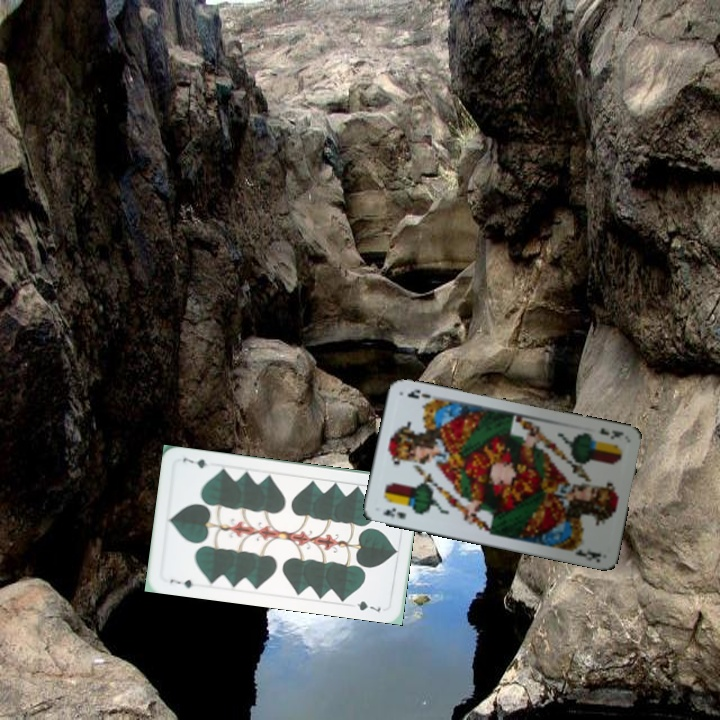EK: (595, 424, 626, 442), (379, 504, 409, 522)
G7: (166, 575, 196, 591)
